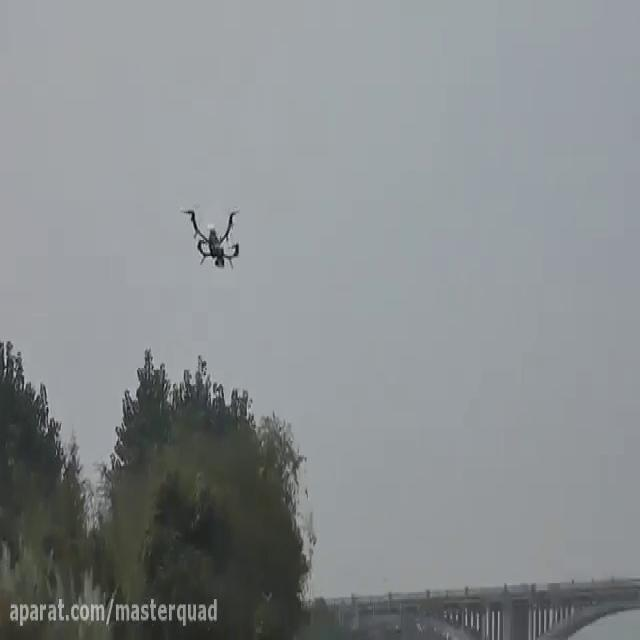drone: (177, 199, 242, 269)
